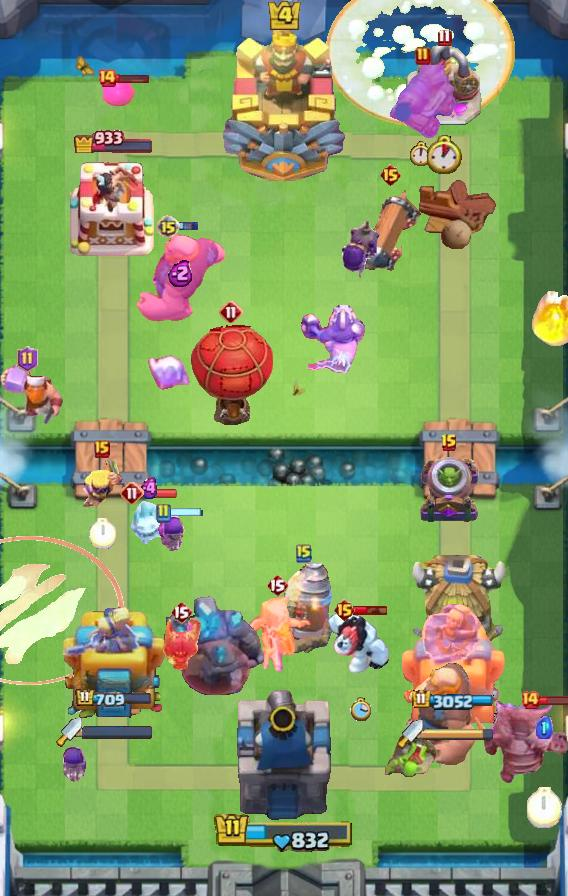arrows: (81, 461, 123, 507)
balloon: (134, 232, 228, 324), (406, 659, 480, 767)
bar: (398, 595, 508, 731), (60, 607, 168, 731)
bar-level: (381, 730, 439, 778)
bat: (128, 498, 172, 548)
battle-healer: (359, 190, 421, 276)
cannon-cart: (189, 323, 273, 425)
cannoneer-tower: (164, 595, 264, 695)
clock: (214, 811, 354, 852)
electro-spirit: (168, 259, 194, 287), (139, 476, 161, 500), (536, 716, 553, 740)
elixir: (426, 134, 462, 174), (527, 788, 562, 829), (88, 518, 115, 549), (409, 141, 431, 167), (350, 698, 371, 723)
emote: (353, 604, 389, 616), (142, 488, 178, 499), (114, 73, 149, 84), (169, 507, 204, 518), (538, 694, 568, 706), (177, 220, 199, 231)
freeze: (298, 305, 366, 377)
goblin: (59, 746, 89, 784), (158, 515, 186, 553)
goblin-ball: (338, 219, 384, 283)
goblin-cage: (417, 455, 481, 525)
golden-knight: (160, 614, 202, 674)
golemite: (472, 697, 568, 783)
ice-wizard: (0, 536, 124, 685)
king-tower: (220, 21, 348, 181), (232, 686, 336, 826)
king-tower-bar: (82, 725, 154, 739), (423, 727, 495, 741)
magic-archer: (274, 562, 334, 654)
mighty-miner: (0, 361, 64, 425)
miner: (103, 76, 135, 106)
mirror: (146, 352, 192, 394)
pekka: (405, 45, 483, 127)
phoenix-big: (326, 0, 515, 126)
poison: (235, 591, 319, 675)
prince: (407, 555, 509, 651)
queen-tower: (70, 154, 158, 256)
rage: (327, 611, 393, 675)
royal-giant-evolution: (389, 65, 457, 139)
selected: (73, 127, 155, 153), (412, 689, 494, 711), (75, 687, 153, 709)
text: (156, 215, 180, 239), (219, 300, 243, 324), (120, 481, 144, 505), (379, 163, 402, 187), (333, 598, 356, 622), (18, 346, 39, 372), (266, 573, 288, 597), (170, 600, 192, 624), (97, 68, 117, 88), (520, 690, 540, 710), (440, 433, 458, 453), (415, 46, 431, 66), (155, 503, 171, 523), (296, 543, 312, 563), (94, 440, 110, 458), (437, 29, 451, 48)
valkyrie: (530, 283, 568, 349)
